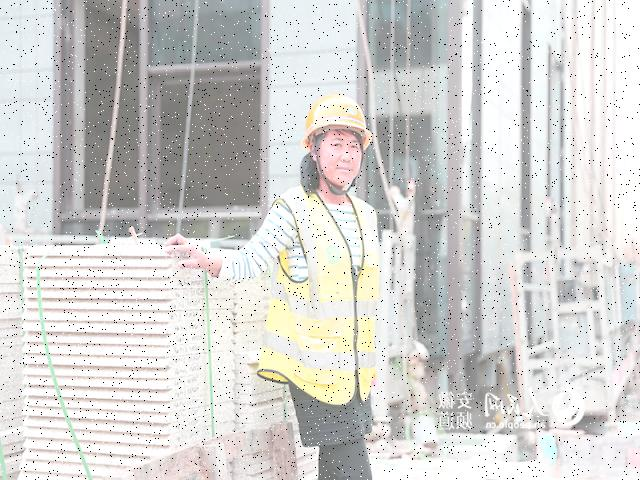Helmet: (298, 87, 377, 157)
